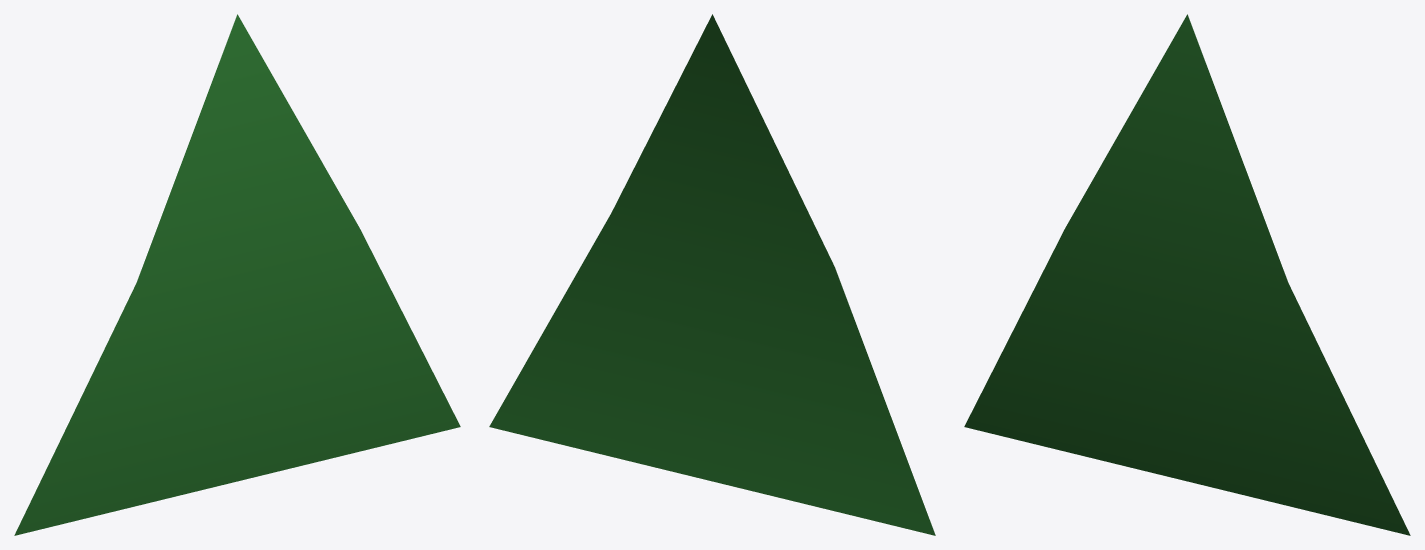
File: pinched-surface.gltf
3 renders of one model, left to right at view 1: azimuth 30°, elevation 25°; view 2: azimuth 150°, elevation 25°; view 3: azimuth 330°, elevation 25°, orthographic.
Bounding box in the file's own units: 1 × 1 × 0.0417.
